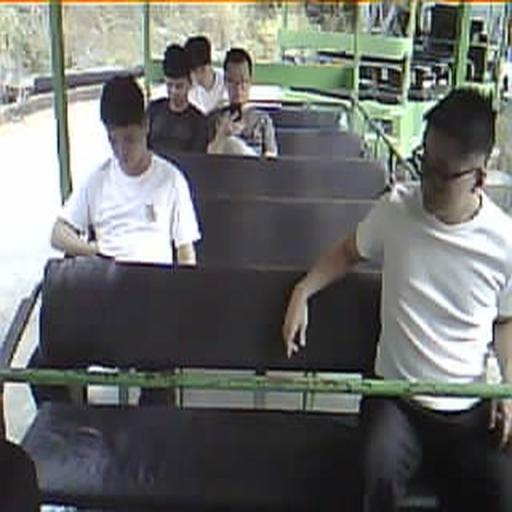persona: (281, 85, 512, 510), (50, 73, 203, 269), (208, 46, 280, 158), (144, 43, 210, 154), (183, 34, 230, 115)
